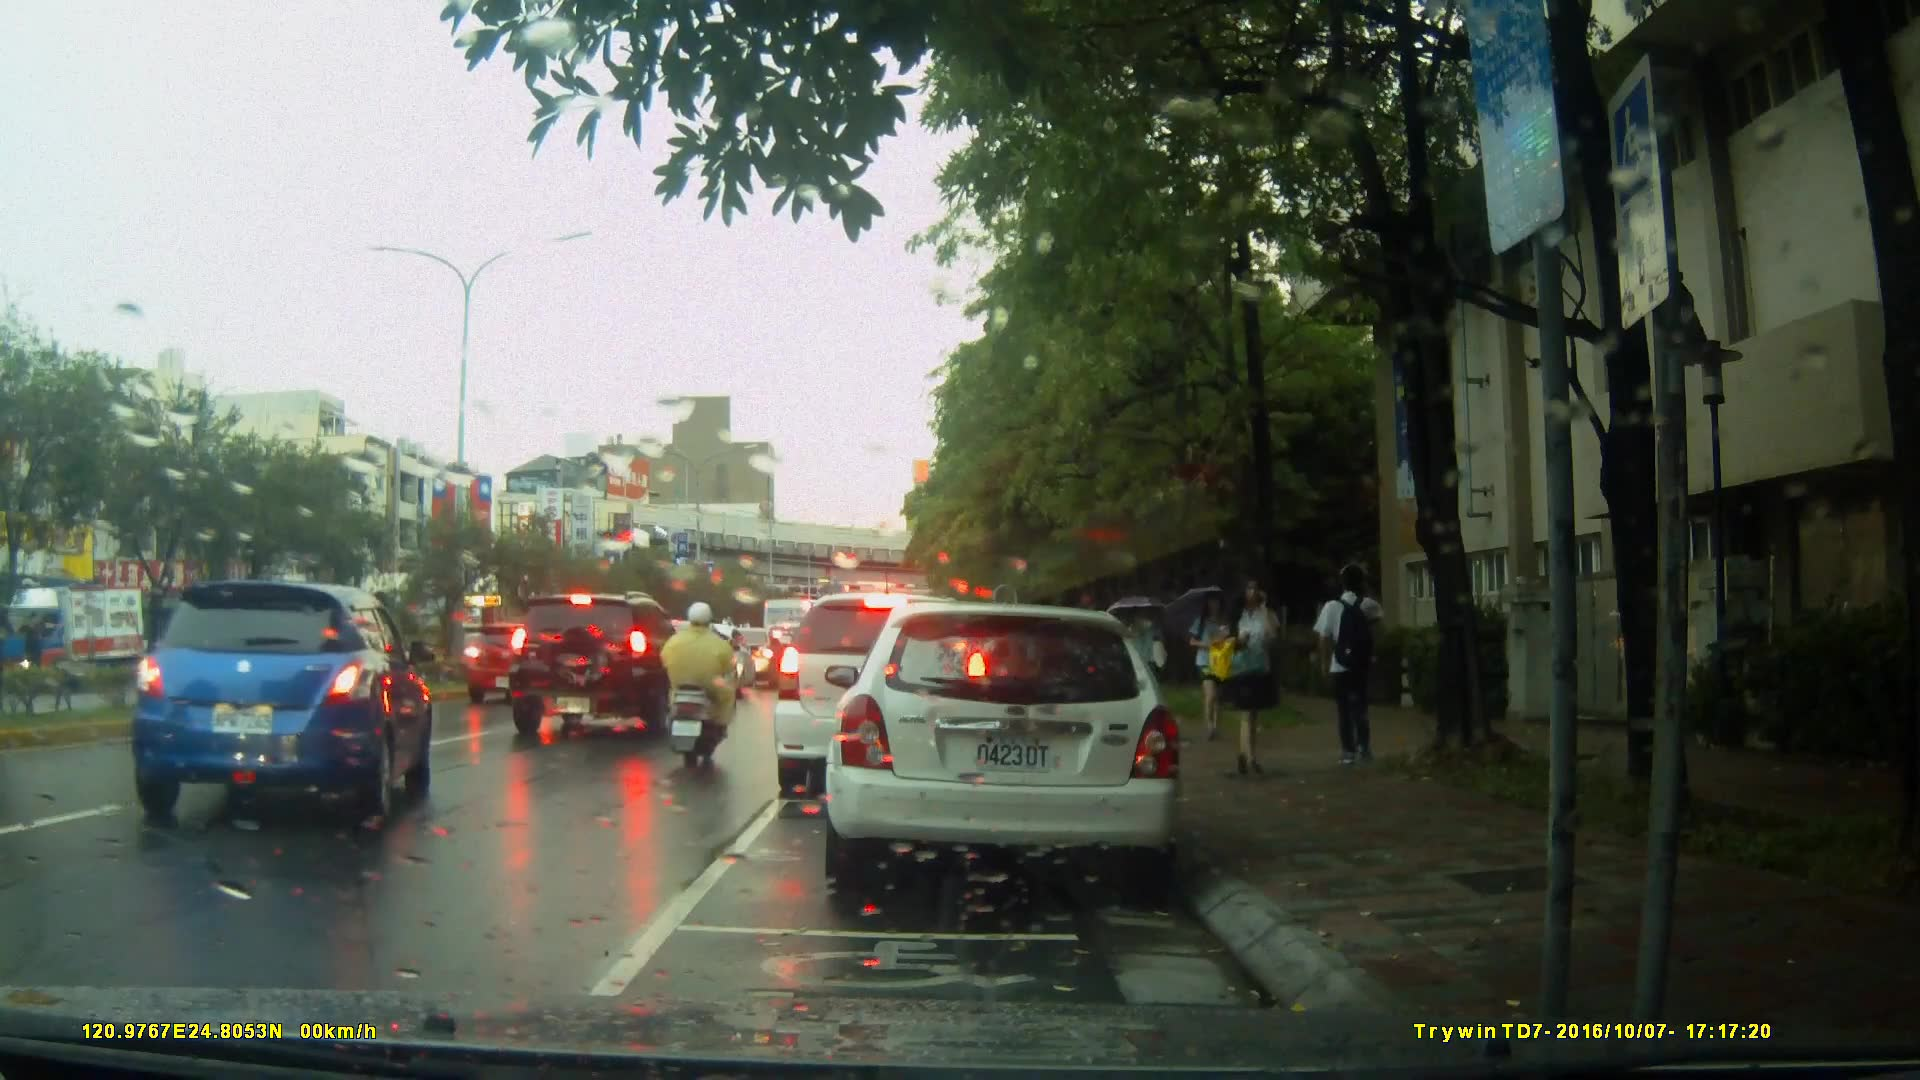pedestrian: (1211, 555, 1285, 789), (1309, 552, 1385, 774), (1187, 588, 1232, 745)
rider: (665, 604, 745, 765)
vehicle: (815, 593, 1204, 907), (126, 583, 438, 828), (771, 590, 995, 802), (509, 592, 696, 739), (1, 584, 150, 686), (460, 617, 585, 704)
